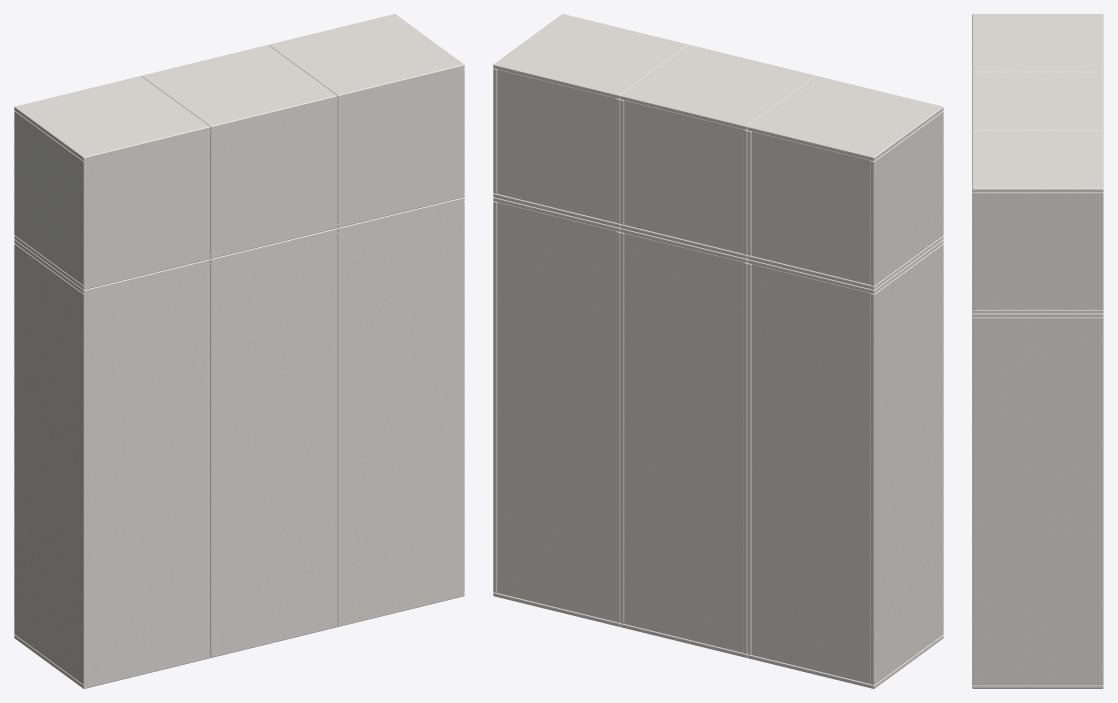
File: platsa-tall.glb
3 renders of one model, left to right at view 1: azimuth 30°, elevation 25°; view 2: azimuth 150°, elevation 25°; view 3: azimuth 270°, elevation 25°, orthographic. The views are drawn at different scales.
Parts seen in each view (by area): view 1: PLATSA / FONNES Wardrobe with top units, 6 doors; view 2: PLATSA / FONNES Wardrobe with top units, 6 doors; view 3: PLATSA / FONNES Wardrobe with top units, 6 doors.
Boxes of the visible parts, x1,y1,x2,y2 form: PLATSA / FONNES Wardrobe with top units, 6 doors: (14,14,464,688); PLATSA / FONNES Wardrobe with top units, 6 doors: (493,14,943,688); PLATSA / FONNES Wardrobe with top units, 6 doors: (972,14,1103,688).
Bounding box in the file's own units: 1.8 × 2.41 × 0.57.
1 material, 1 textured.
